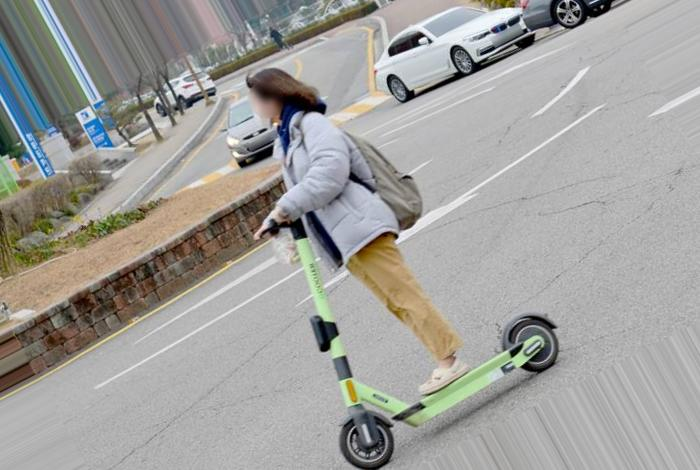scooter: (257, 207, 560, 470)
